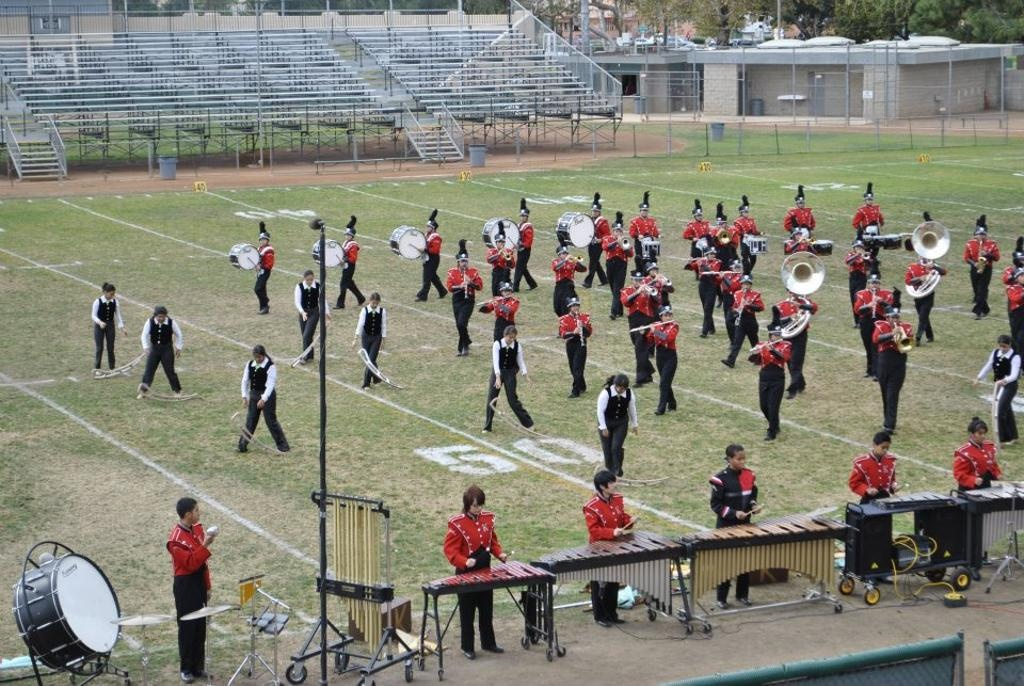human_face: (184, 500, 200, 522), (972, 422, 986, 444), (876, 435, 890, 456), (730, 450, 744, 470), (469, 497, 483, 513), (604, 480, 616, 494), (253, 351, 263, 363), (104, 287, 114, 299), (505, 332, 515, 344), (568, 302, 578, 314), (661, 310, 671, 322), (998, 340, 1008, 352), (501, 287, 511, 297), (770, 332, 780, 342), (888, 314, 898, 324), (977, 230, 985, 242), (632, 276, 640, 288), (613, 226, 621, 237), (156, 312, 164, 322), (305, 274, 313, 284), (258, 236, 266, 246), (370, 298, 378, 308), (459, 258, 467, 268), (496, 238, 504, 248), (649, 266, 657, 276), (793, 231, 801, 241), (868, 280, 878, 288), (706, 250, 714, 260), (741, 280, 749, 290), (787, 288, 797, 296), (640, 208, 648, 216), (694, 213, 702, 221), (796, 199, 804, 207), (854, 244, 862, 252), (560, 251, 568, 259), (732, 264, 740, 272), (616, 384, 624, 392), (344, 232, 350, 240), (426, 224, 432, 232), (520, 214, 526, 222), (592, 208, 598, 216), (742, 209, 748, 217), (866, 197, 872, 205)
